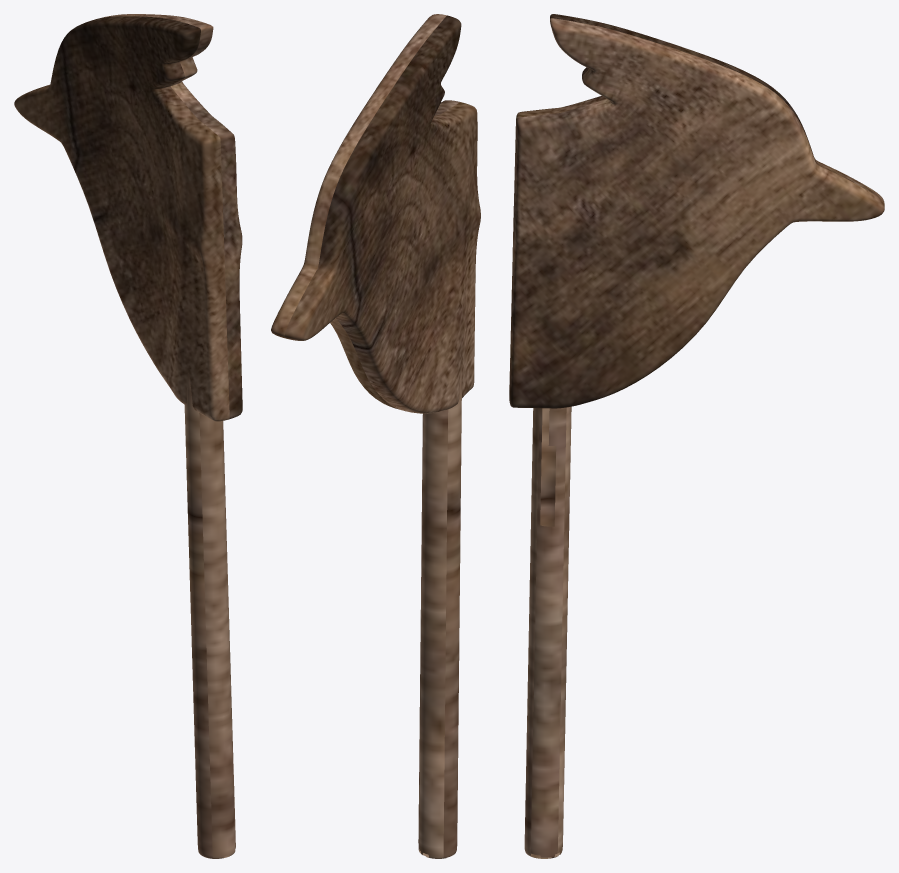
The model's file is spinnerHead.obj.
3 views of the same model, side by side, from view 1: azimuth 30°, elevation 25°; view 2: azimuth 150°, elevation 25°; view 3: azimuth 270°, elevation 25° (orthographic). The views are drawn at different scales.
Visible parts, largest first — view 1: head.001; view 2: head.001; view 3: head.001.
Boxes of the visible parts, x1,y1,x2,y2 form: head.001: [14, 14, 242, 858]; head.001: [271, 14, 480, 858]; head.001: [509, 14, 884, 858].
Bounding box in the file's own units: 0.0341 × 0.518 × 0.2129.
Materials: 1 (1 with a texture image).
